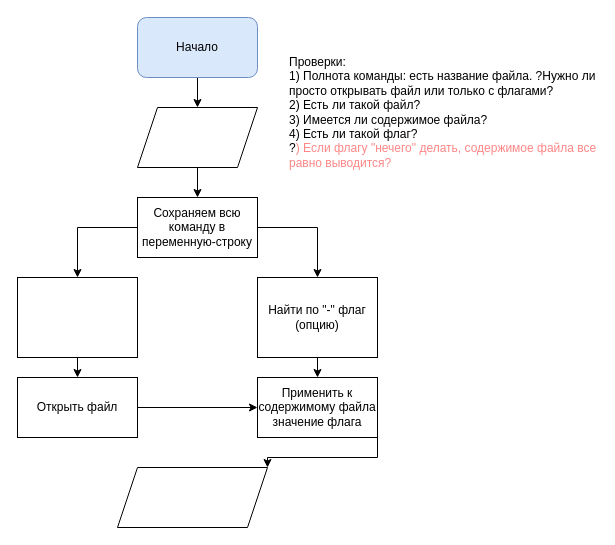
Image size: 615x545. Some labels were removed from this diagram. Here are the shapes that lost their labels. From the top down, the centre of each, then its label:
(x=197, y=137): Получаем команду на ввод
(x=77, y=317): Найти имя файла в команде ? по каким параметрам?
(x=192, y=497): Вывести измененный файл в консоль (без сохранения)
